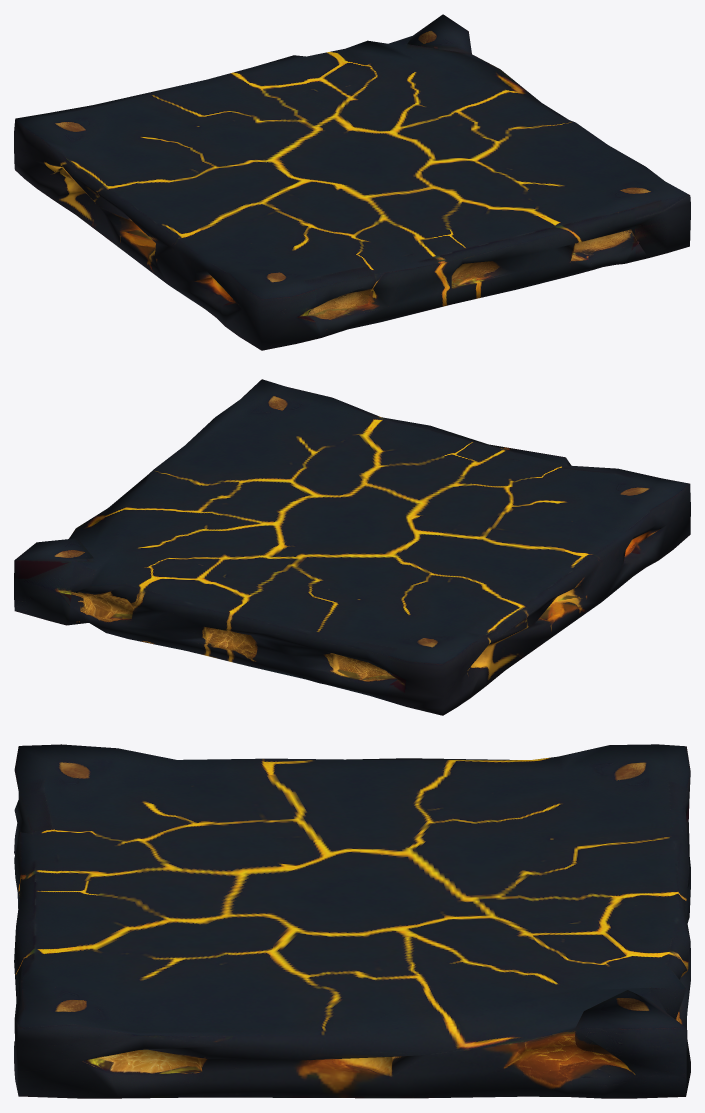
The model's file is floor_0.glb.
The picture shows the model from 3 angles, top to bottom: view 1: azimuth 30°, elevation 25°; view 2: azimuth 150°, elevation 25°; view 3: azimuth 270°, elevation 25°; orthographic projection. The views are drawn at different scales.
Size of the model in its own units: 1.91 by 0.2169 by 1.91.
Materials: 1 (1 with a texture image).
